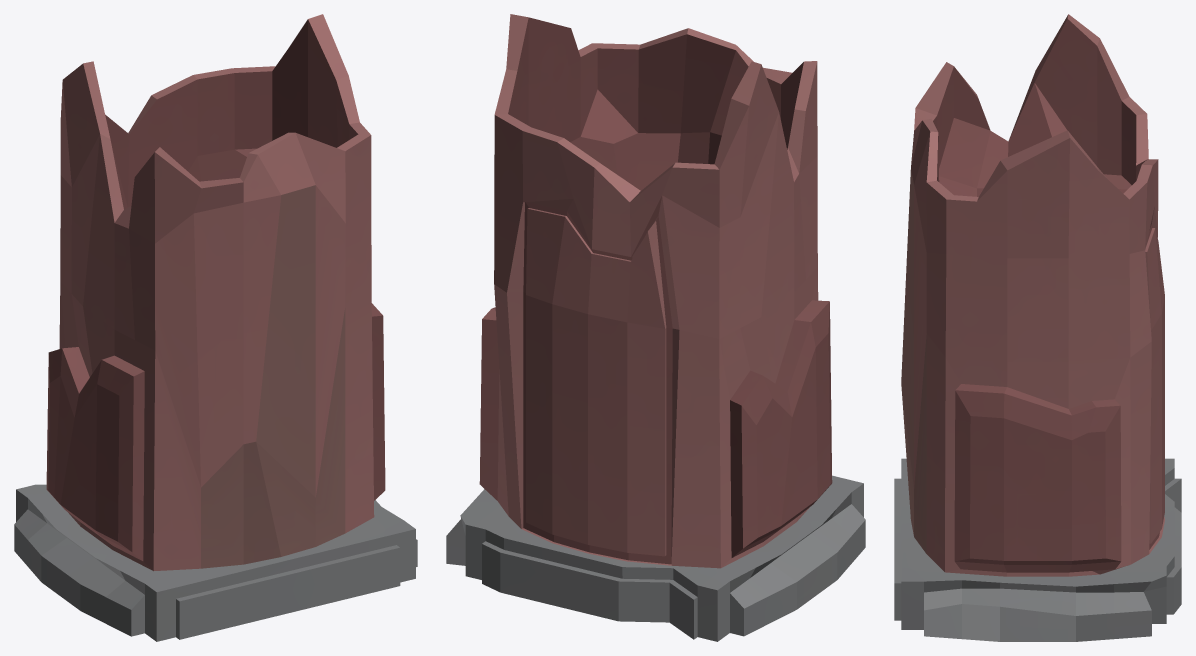
File: gas_pump_C_destroyed.glb
3 views of the same model, side by side, from view 1: azimuth 30°, elevation 25°; view 2: azimuth 150°, elevation 25°; view 3: azimuth 270°, elevation 25° (orthographic). The views are drawn at different scales.
Visible parts, largest first — view 1: gas_pump_C_destroyed_body; view 2: gas_pump_C_destroyed_body; view 3: gas_pump_C_destroyed_body.
Part boxes in pixels (left/top/right/bottom): gas_pump_C_destroyed_body: left=14, top=14, right=417, bottom=641; gas_pump_C_destroyed_body: left=446, top=14, right=865, bottom=641; gas_pump_C_destroyed_body: left=894, top=14, right=1181, bottom=641.
Bounding box in the file's own units: 0.9162 × 1.45 × 0.7562.
1 material, 1 textured.
